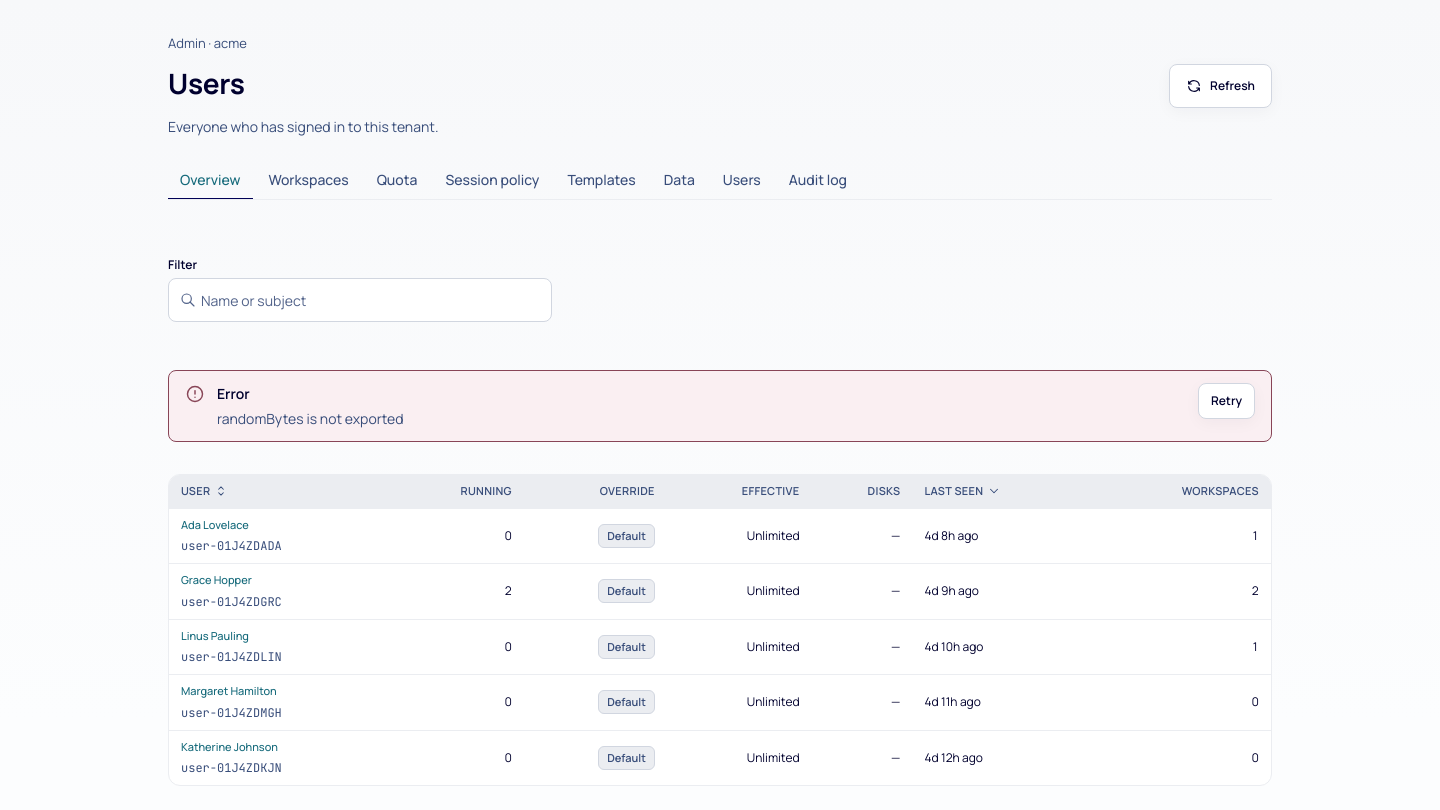
it: UsersAdminPage › filters rows by name or subject
The image size is (1440, 810).
expect the link "Grace Hopper" is shown: met, box [181,572,252,587]
Type "linus" into the search field labelled "Filter".
click(360, 300); type("linus")  # box [168,278,552,322]
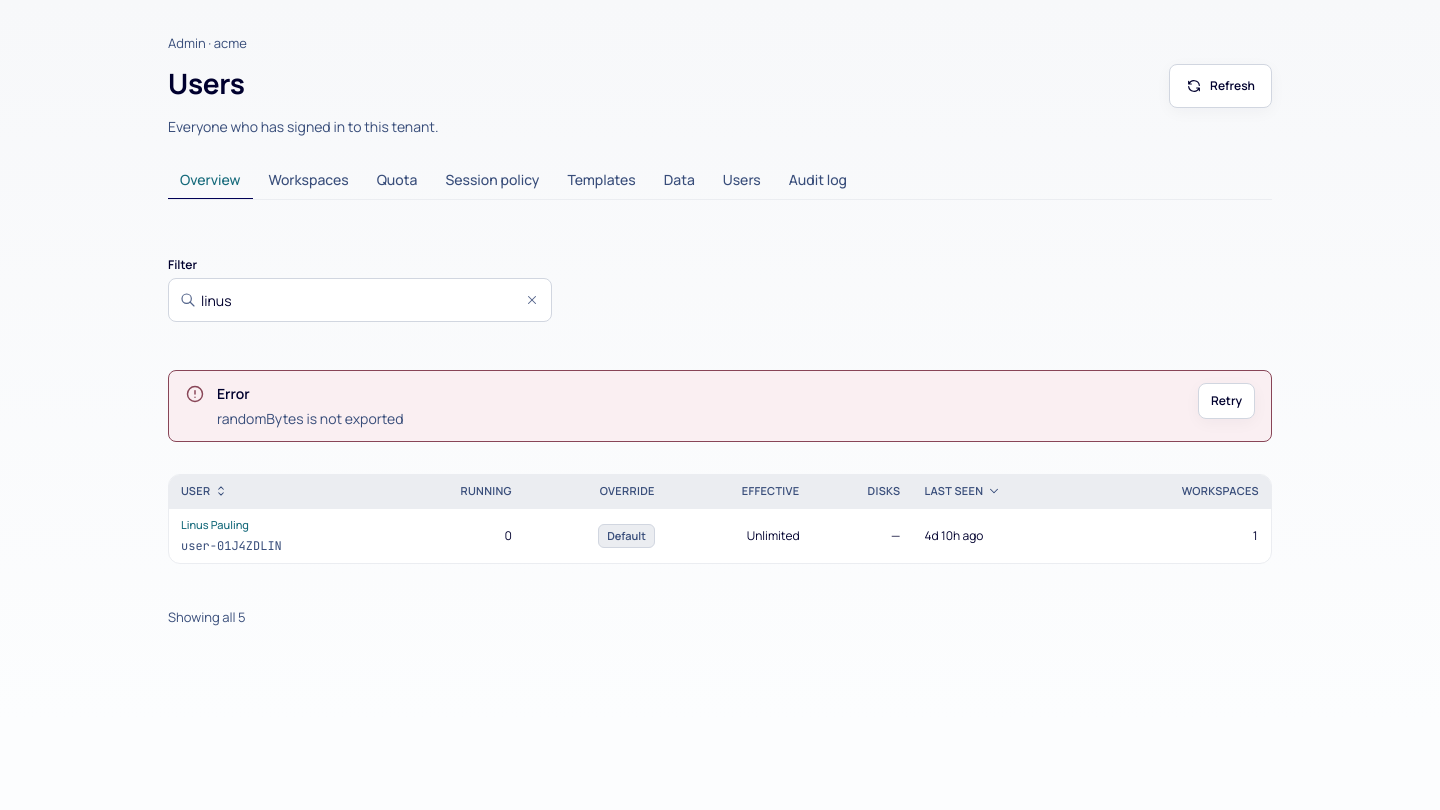
expect the link "Linus Pauling" is shown: met, box [181,516,249,532]
expect the link "Grace Hopper" is gone: met
Replace the text in the search field labelled "Filter" with "nobody" at (360, 300), box [168,278,552,322]
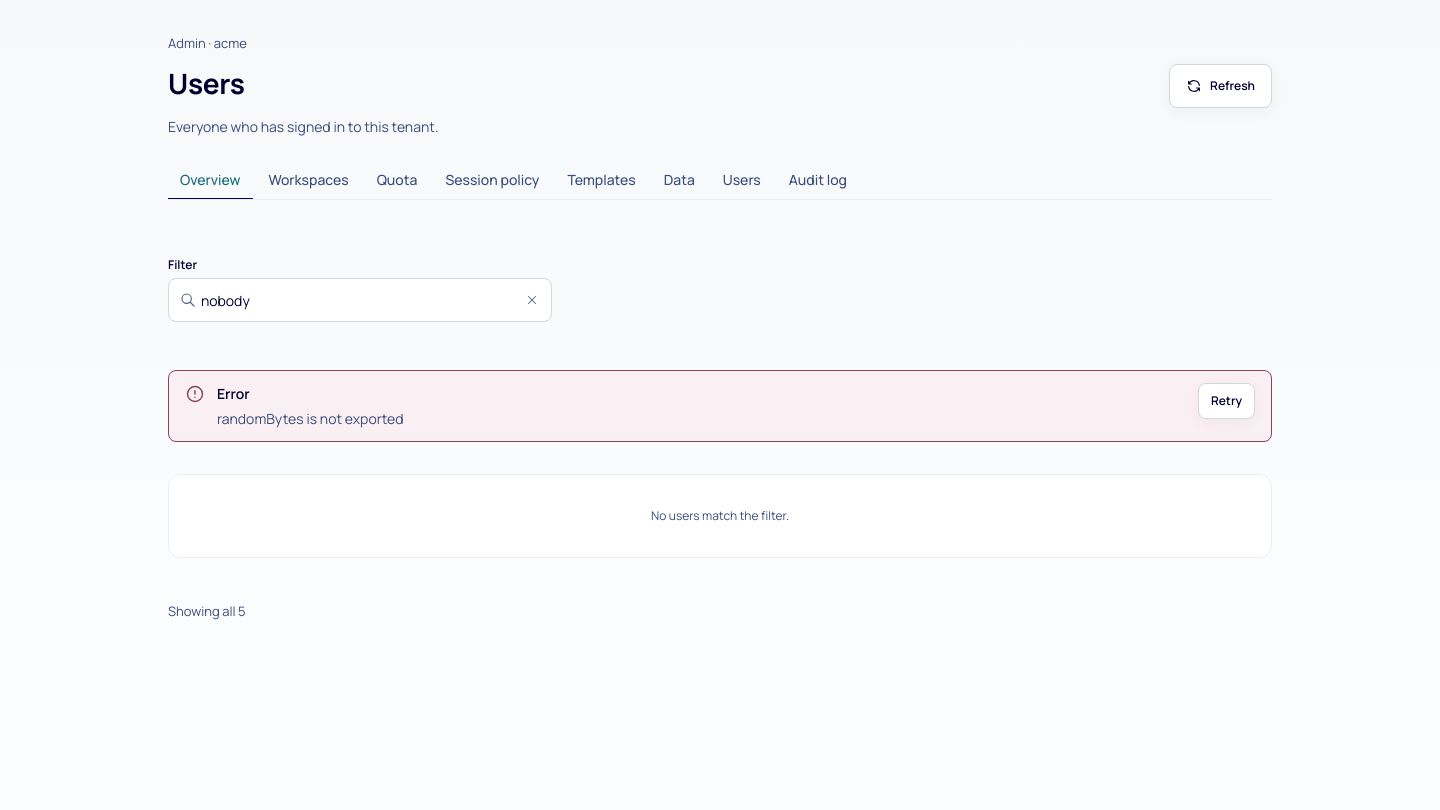
expect the text "No users match the filter." is shown: met, box [168,474,1272,558]
